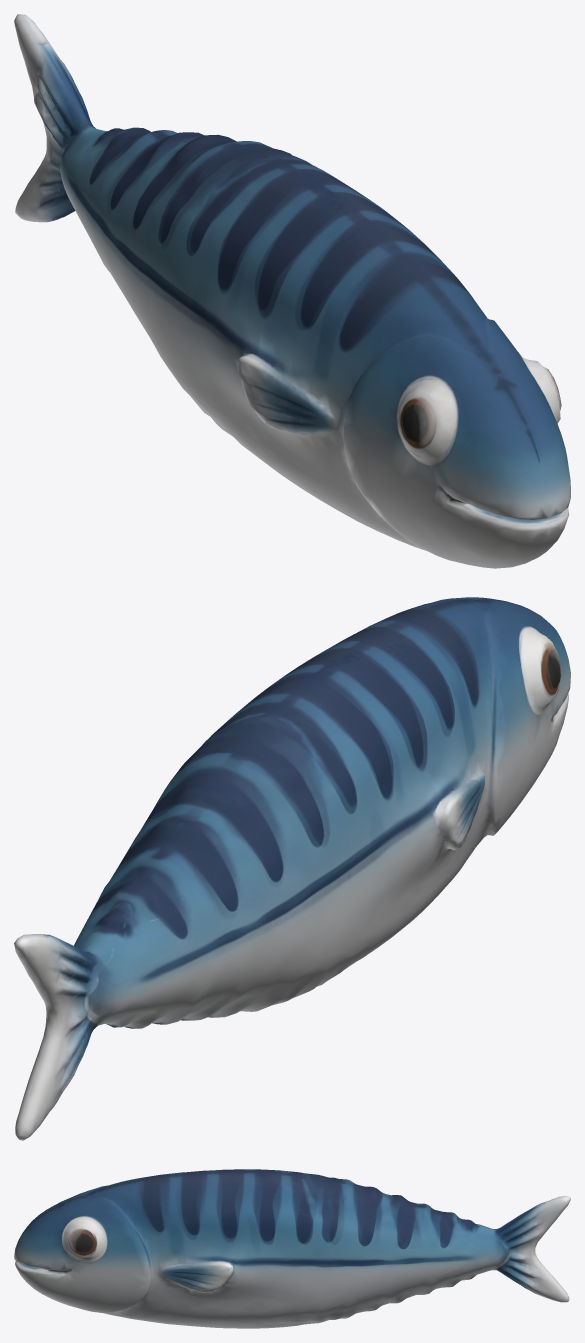
Rendered from Happy_Mackerel_1111184950_texture.fbx.
3 renders of one model, top to bottom at view 1: azimuth 30°, elevation 25°; view 2: azimuth 150°, elevation 25°; view 3: azimuth 270°, elevation 25°, orthographic. The views are drawn at different scales.
Visible parts, largest first — view 1: Mesh1.0; view 2: Mesh1.0; view 3: Mesh1.0.
Part boxes in pixels (x1,y1,x2,y2): Mesh1.0: (14, 14, 570, 568); Mesh1.0: (14, 597, 570, 1140); Mesh1.0: (14, 1169, 570, 1328).
Bounding box in the file's own units: 44.45 × 58.35 × 191.
Materials: 1 (1 with a texture image).
